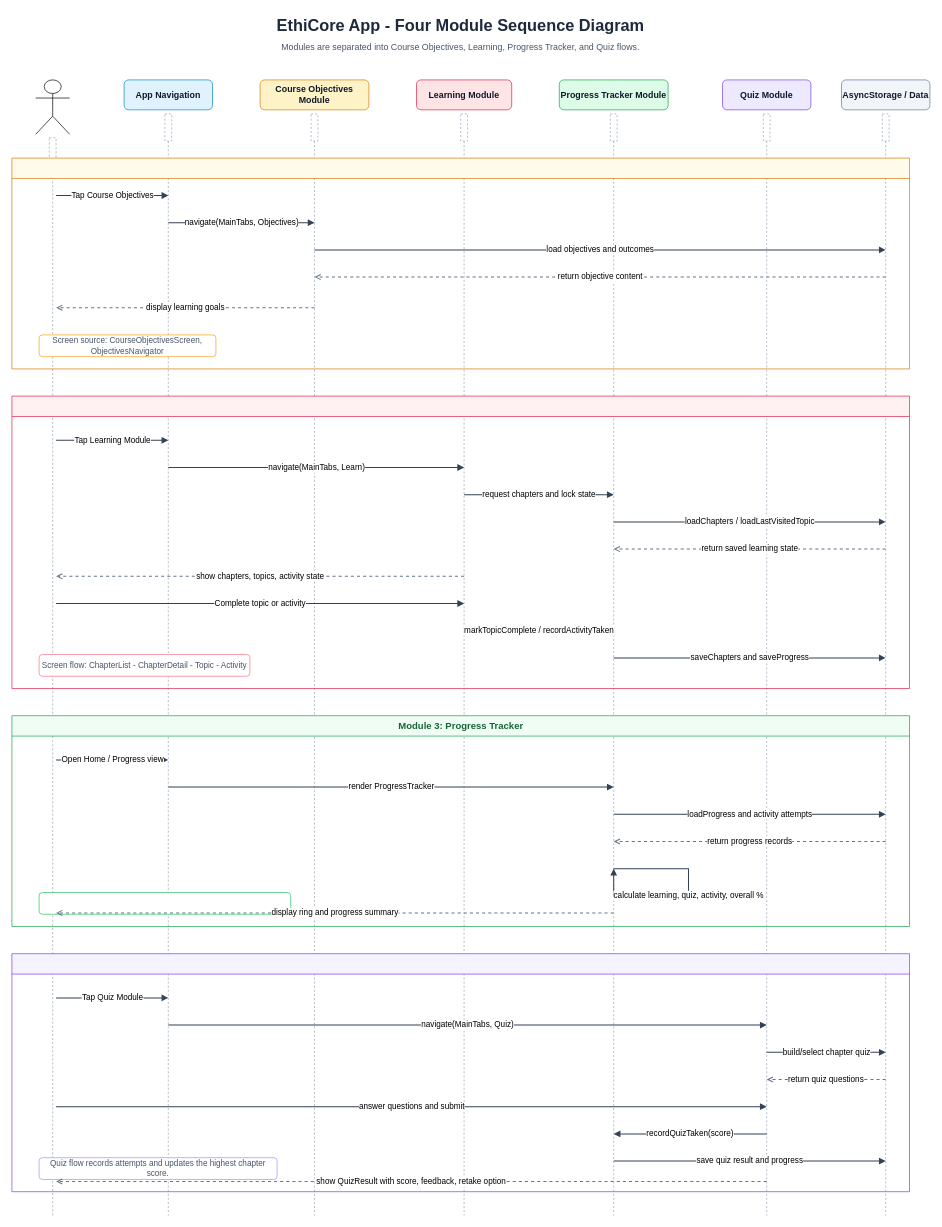
Image size: 942x1227. Some labels were removed from this diagram. Here are the shapes that lost their labels. From the top down, the box of each, then its label:
(35, 79, 70, 134): Learner
(11, 157, 910, 369): Module 1: Course Objectives
(11, 395, 910, 688): Module 2: Learning Module
(38, 892, 291, 914): ProgressContext calculates learning, quiz, activity, and overall progress.
(11, 953, 910, 1192): Module 4: Quiz Module
